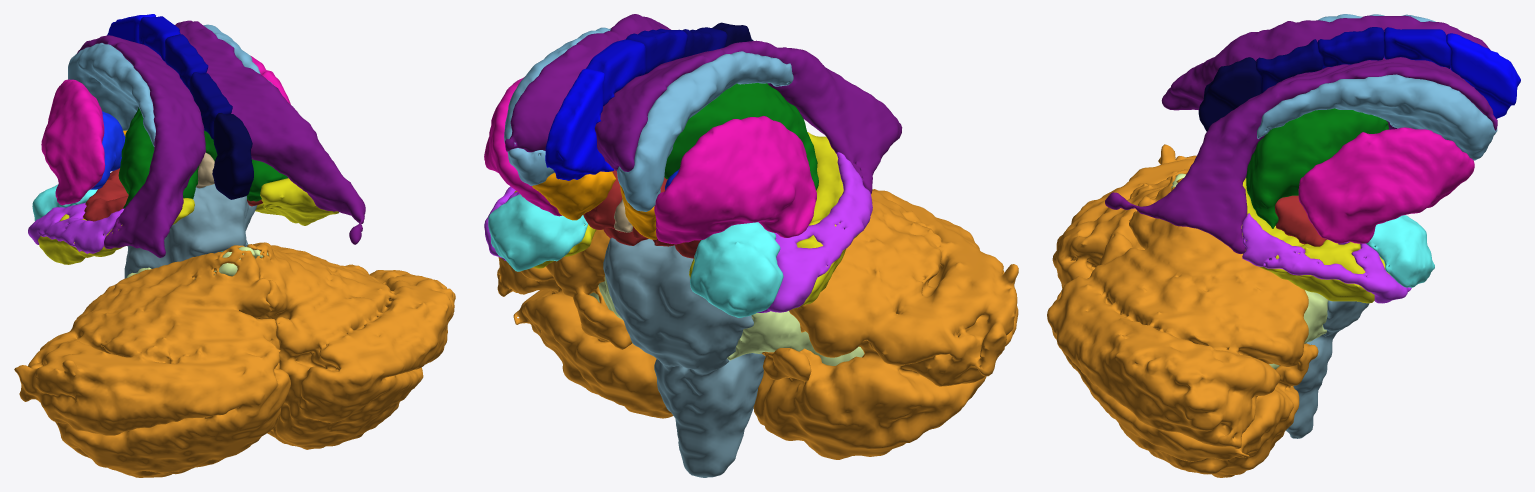
The model's file is structures.glb.
The picture shows the model from 3 angles, left to right: view 1: azimuth 30°, elevation 25°; view 2: azimuth 150°, elevation 25°; view 3: azimuth 270°, elevation 25°; orthographic projection. The views are drawn at different scales.
Parts seen in each view (by area): view 1: aseg:left:8, aseg:right:47, aseg:right:43, aseg:left:4, aseg:left:12, aseg:midline:16, aseg:left:11, aseg:midline:251, aseg:left:5, aseg:left:10, aseg:right:53, aseg:midline:252 (+10 smaller); view 2: aseg:left:8, aseg:midline:16, aseg:left:12, aseg:right:47, aseg:left:4, aseg:left:11, aseg:left:18, aseg:left:5, aseg:right:43, aseg:right:54, aseg:midline:255, aseg:left:10 (+10 smaller); view 3: aseg:right:47, aseg:right:43, aseg:right:51, aseg:right:50, aseg:right:49, aseg:left:8, aseg:left:4, aseg:right:44, aseg:right:53, aseg:midline:255, aseg:right:54, aseg:midline:16 (+6 smaller).
Part boxes in pixels (<box>): aseg:left:8: <box>14,245,290,477</box>; aseg:right:47: <box>247,242,455,449</box>; aseg:right:43: <box>175,20,365,244</box>; aseg:left:4: <box>77,35,205,257</box>; aseg:left:12: <box>41,79,105,205</box>; aseg:midline:16: <box>124,184,257,278</box>; aseg:left:11: <box>68,43,155,146</box>; aseg:midline:251: <box>212,113,253,199</box>; aseg:left:5: <box>28,202,124,253</box>; aseg:left:10: <box>118,107,199,208</box>; aseg:right:53: <box>255,178,338,225</box>; aseg:midline:252: <box>189,72,232,139</box>; aseg:left:8: <box>753,189,1018,459</box>; aseg:midline:16: <box>603,237,765,477</box>; aseg:left:12: <box>654,116,816,244</box>; aseg:right:47: <box>497,229,673,418</box>; aseg:left:4: <box>595,40,902,193</box>; aseg:left:11: <box>617,51,793,211</box>; aseg:left:18: <box>690,222,783,317</box>; aseg:left:5: <box>757,152,872,312</box>; aseg:right:43: <box>505,14,670,152</box>; aseg:right:54: <box>488,194,588,271</box>; aseg:midline:255: <box>545,68,613,180</box>; aseg:left:10: <box>664,83,818,190</box>; aseg:right:47: <box>1047,178,1318,477</box>; aseg:right:43: <box>1105,57,1497,253</box>; aseg:right:51: <box>1298,127,1474,243</box>; aseg:right:50: <box>1257,74,1497,160</box>; aseg:right:49: <box>1246,108,1388,228</box>; aseg:left:8: <box>1052,144,1196,288</box>; aseg:left:4: <box>1161,15,1490,110</box>; aseg:right:44: <box>1242,213,1411,303</box>; aseg:right:53: <box>1241,178,1389,303</box>; aseg:midline:255: <box>1446,33,1520,118</box>; aseg:right:54: <box>1365,215,1434,287</box>; aseg:midline:16: <box>1286,300,1369,438</box>.
Size of the model in its own units: 0.1128 by 0.0962 by 0.1.
